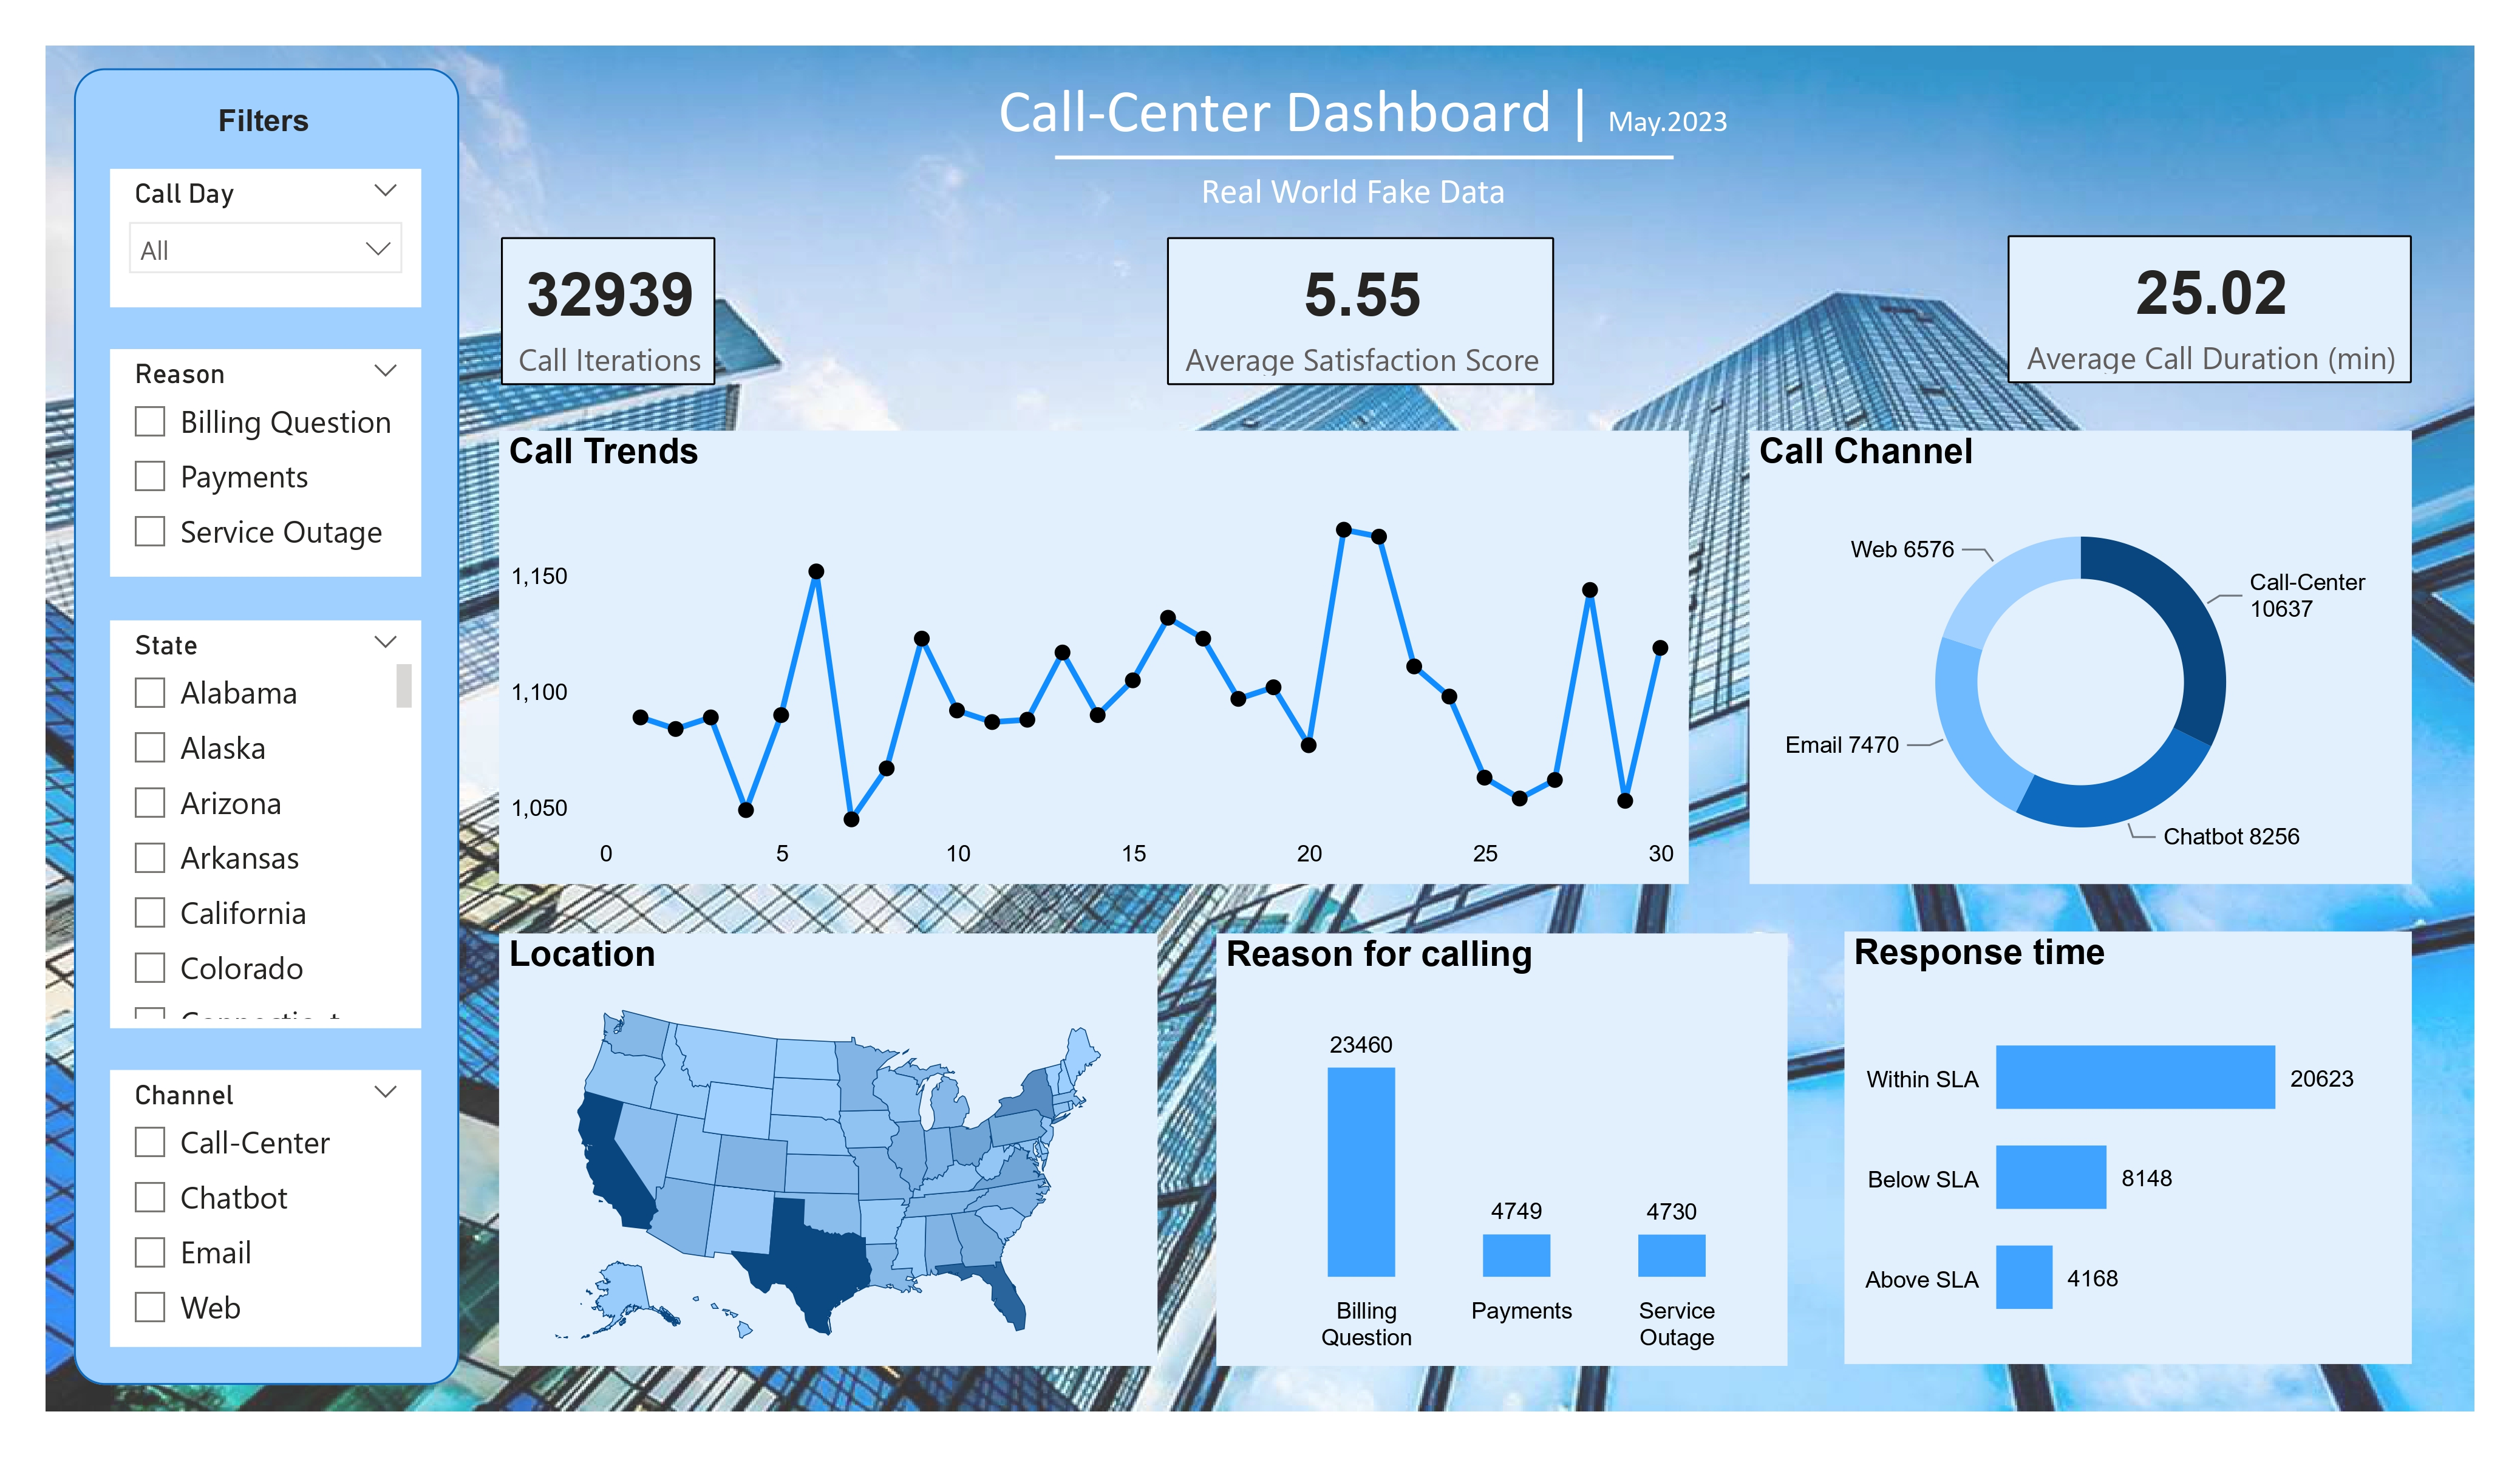

The dashboard page shown, as its layout file describes it:
{"tool":"powerbi","page":{"name":"Dashboard","canvas":[1280,720],"ordinal":0},"visuals":[{"type":"shape","box":[14.7,11.8,203.3,693.8],"z":0,"group":"g1"},{"type":"group","id":"g1","title":"Group 1","box":[14,9.8,1233.4,695.8],"z":1000},{"type":"slicer","fields":{"Values":["Call_Center.call_day"]},"box":[34,65.2,164.4,72.3],"z":1000,"group":"g1"},{"type":"slicer","fields":{"Values":["Call_Center.reason"]},"box":[34,159.7,164.4,120.5],"z":2000,"group":"g1"},{"type":"slicer","fields":{"Values":["Call_Center.state"]},"box":[34,302.4,164.4,215.5],"z":3000,"group":"g1"},{"type":"textbox","box":[14,26.1,202.4,27.8],"z":4000,"group":"g1"},{"type":"slicer","fields":{"Values":["Call_Center.channel"]},"box":[34,540.1,164.4,146],"z":5000,"group":"g1"},{"type":"textbox","box":[482.2,9.8,424.6,56.1],"z":6000,"group":"g1"},{"type":"shape","box":[531.8,39.7,326,38.3],"z":7000,"group":"g1"},{"type":"card","fields":{"Values":["CountNonNull(Call_Center.id)"]},"box":[239.6,100.7,113.4,78],"z":8000,"group":"g1"},{"type":"textbox","box":[604.1,59.6,181.4,41.1],"z":9000,"group":"g1"},{"type":"lineChart","title":"Call Trends","fields":{"Category":["Call_Center.call_day"],"Y":["CountNonNull(Call_Center.id)"]},"box":[239.2,202.6,627.2,239.2],"z":10000,"group":"g1"},{"type":"card","fields":{"Values":["Call_Center.avg_talk_time"]},"box":[1033.5,100.1,213.5,78.1],"z":11000,"group":"g1"},{"type":"card","fields":{"Values":["Avg(Call_Center.csat_score)"]},"box":[591.2,100.7,204.1,78],"z":12000,"group":"g1"},{"type":"donutChart","title":"Call Channel","fields":{"Category":["Call_Center.channel"],"Y":["CountNonNull(Call_Center.id)"]},"box":[898.1,202.6,349,239.2],"z":13000,"group":"g1"},{"type":"shapeMap","title":"Location","fields":{"Category":["Call_Center.state"],"Value":["CountNonNull(Call_Center.id)"]},"box":[239.2,467.4,346.5,228.2],"z":14000,"group":"g1"},{"type":"columnChart","title":"Reason for calling","fields":{"Category":["Call_Center.reason"],"Y":["CountNonNull(Call_Center.reason)"]},"box":[617.4,467.4,300.2,228.2],"z":15000,"group":"g1"},{"type":"barChart","title":"Response time","fields":{"Category":["Call_Center.response_time"],"Y":["CountNonNull(Call_Center.response_time)"]},"box":[948.3,466.4,299.1,228.2],"z":16000,"group":"g1"}]}

Visuals, with their boxes on the page's 1280x720 design canvas (x1, y1, x2, y2). These are canvas units, not pixel positions in the 2520x1457 screenshot, which may show the page scaled, cropped or inside an application window:
shape: BBox(15, 12, 218, 706)
"Group 1" group: BBox(14, 10, 1247, 706)
slicer - Call_Center.call_day: BBox(34, 65, 198, 138)
slicer - Call_Center.reason: BBox(34, 160, 198, 280)
slicer - Call_Center.state: BBox(34, 302, 198, 518)
textbox: BBox(14, 26, 216, 54)
slicer - Call_Center.channel: BBox(34, 540, 198, 686)
textbox: BBox(482, 10, 907, 66)
shape: BBox(532, 40, 858, 78)
card - CountNonNull(Call_Center.id): BBox(240, 101, 353, 179)
textbox: BBox(604, 60, 786, 101)
"Call Trends" lineChart: BBox(239, 203, 866, 442)
card - Call_Center.avg_talk_time: BBox(1034, 100, 1247, 178)
card - Avg(Call_Center.csat_score): BBox(591, 101, 795, 179)
"Call Channel" donutChart: BBox(898, 203, 1247, 442)
"Location" shapeMap: BBox(239, 467, 586, 696)
"Reason for calling" columnChart: BBox(617, 467, 918, 696)
"Response time" barChart: BBox(948, 466, 1247, 695)
